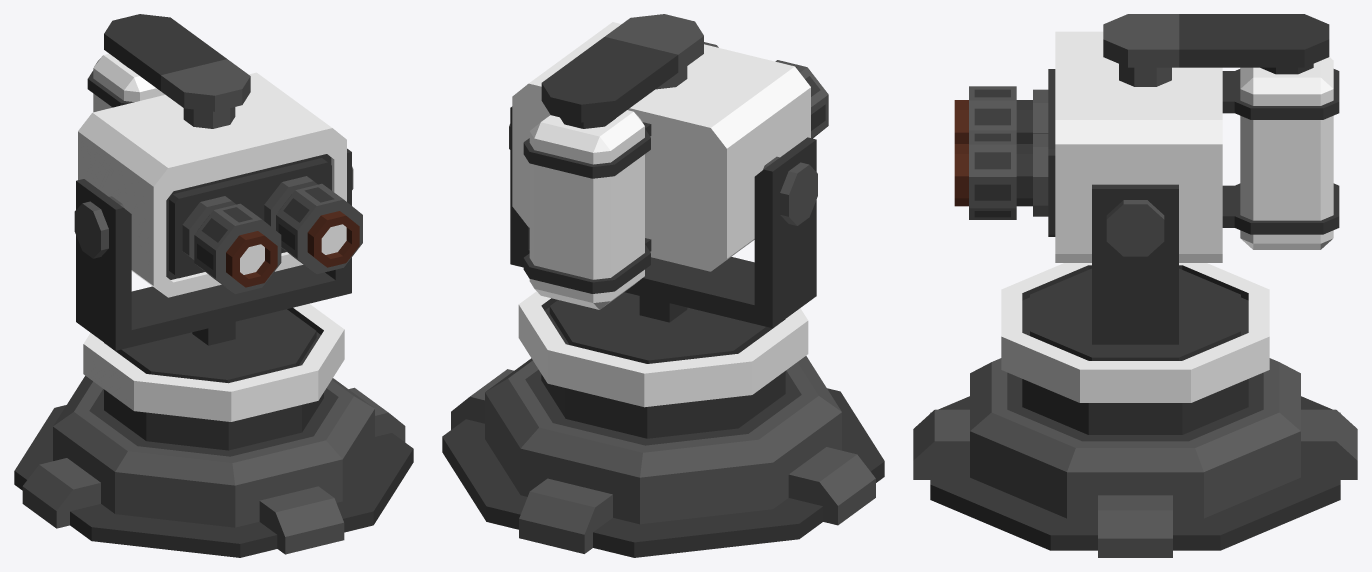
File: Flame_2.fbx
3 renders of one model, left to right at view 1: azimuth 30°, elevation 25°; view 2: azimuth 150°, elevation 25°; view 3: azimuth 270°, elevation 25°, orthographic. The views are drawn at different scales.
Visible parts, largest first — view 1: Body_Mesh, Base_Mesh, Upper_Mesh; view 2: Body_Mesh, Base_Mesh, Upper_Mesh; view 3: Body_Mesh, Base_Mesh, Upper_Mesh.
Boxes of the visible parts, x1,y1,x2,y2 form: Body_Mesh: [74, 14, 362, 297]; Base_Mesh: [14, 375, 413, 557]; Upper_Mesh: [76, 148, 351, 450]; Body_Mesh: [509, 14, 828, 309]; Base_Mesh: [442, 356, 884, 557]; Upper_Mesh: [510, 106, 816, 438]; Body_Mesh: [954, 14, 1339, 262]; Base_Mesh: [913, 358, 1357, 557]; Upper_Mesh: [1001, 184, 1269, 434].
Bounding box in the file's own units: 1.3 × 1.4 × 1.3.
